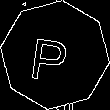P_N: (33, 27, 77, 83)
